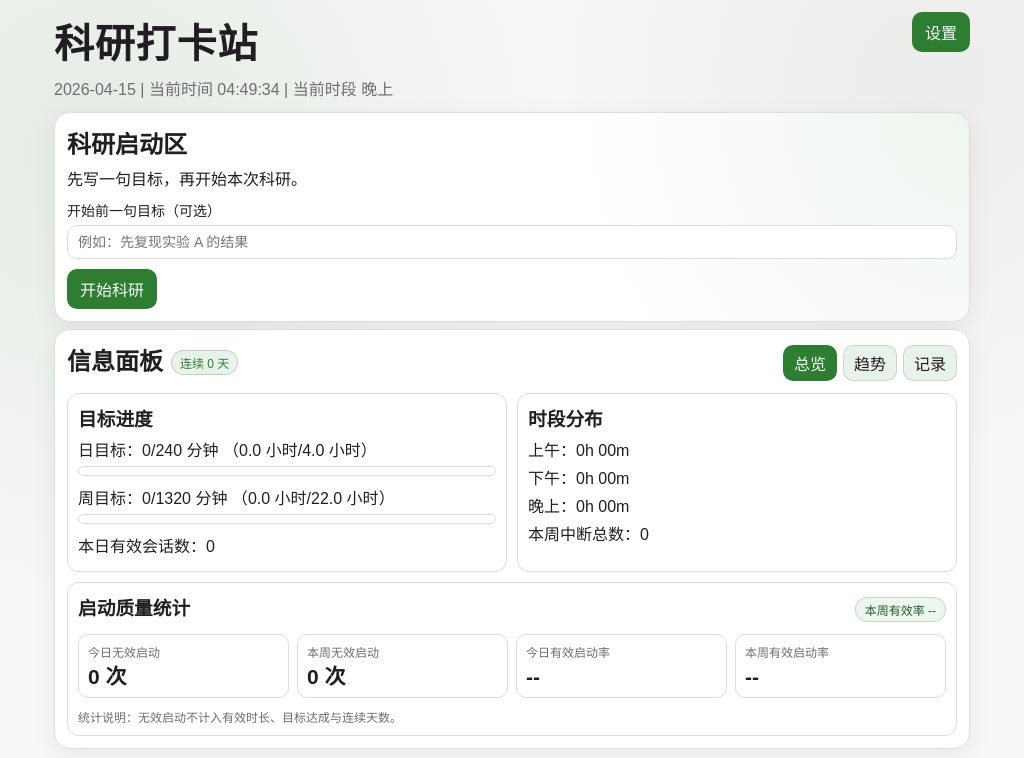
Scenario: App integration › shows current-session card after start, updates interrupt count, and hides after end
The image size is (1024, 758).
Expected: the heading "科研启动区" is shown, [67,131,187,158]
Expected: the text "开始时间" is not shown
Step 1. Type "实验推进" into the field with placeholder "例如：先复现实验 A 的结果" → (512, 242), box [67,225,957,259]
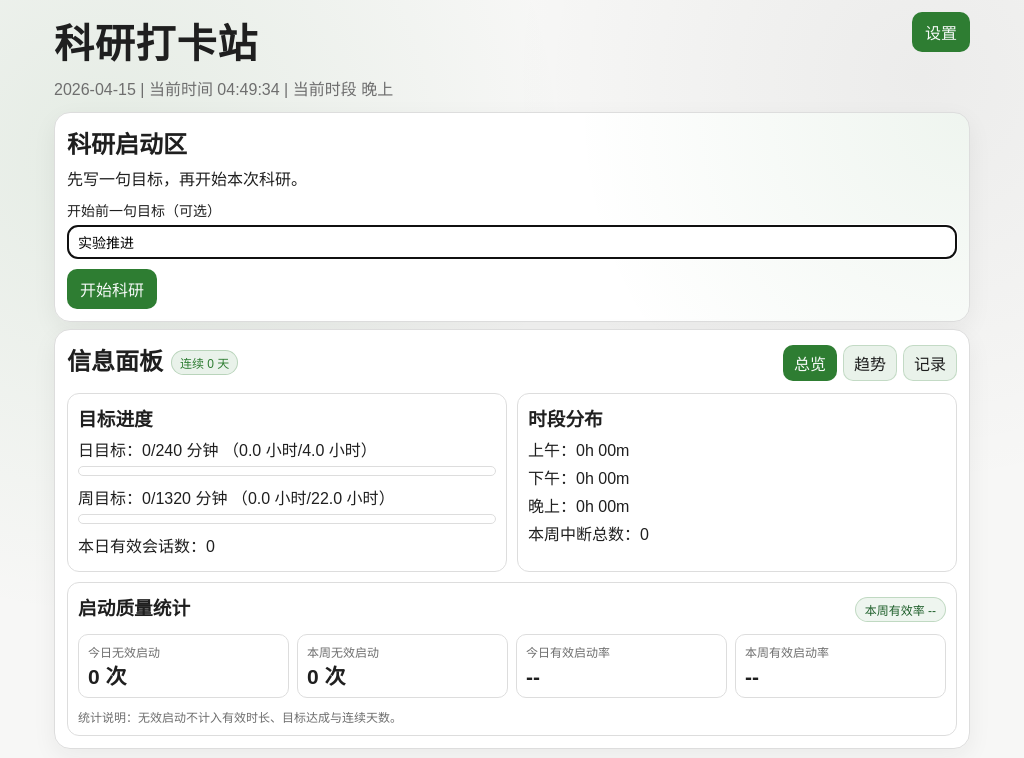
Step 2. Click the button "开始科研" → (112, 289), box [67,269,157,309]
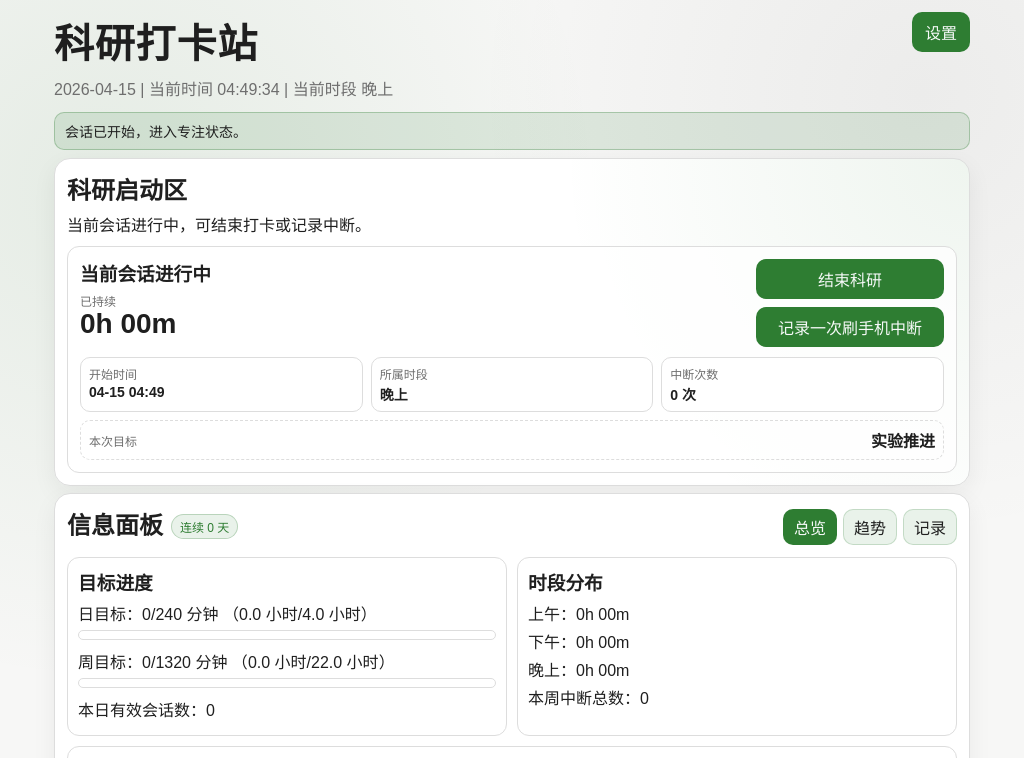
Result: the heading "当前会话进行中" is shown at [80,259,211,286]
Result: the text "开始时间" is shown at [89,368,137,382]
Result: the text "已持续" is shown at [80,295,116,309]
Step 3. Click the button "记录一次刷手机中断" → (850, 327), box [756,307,944,347]
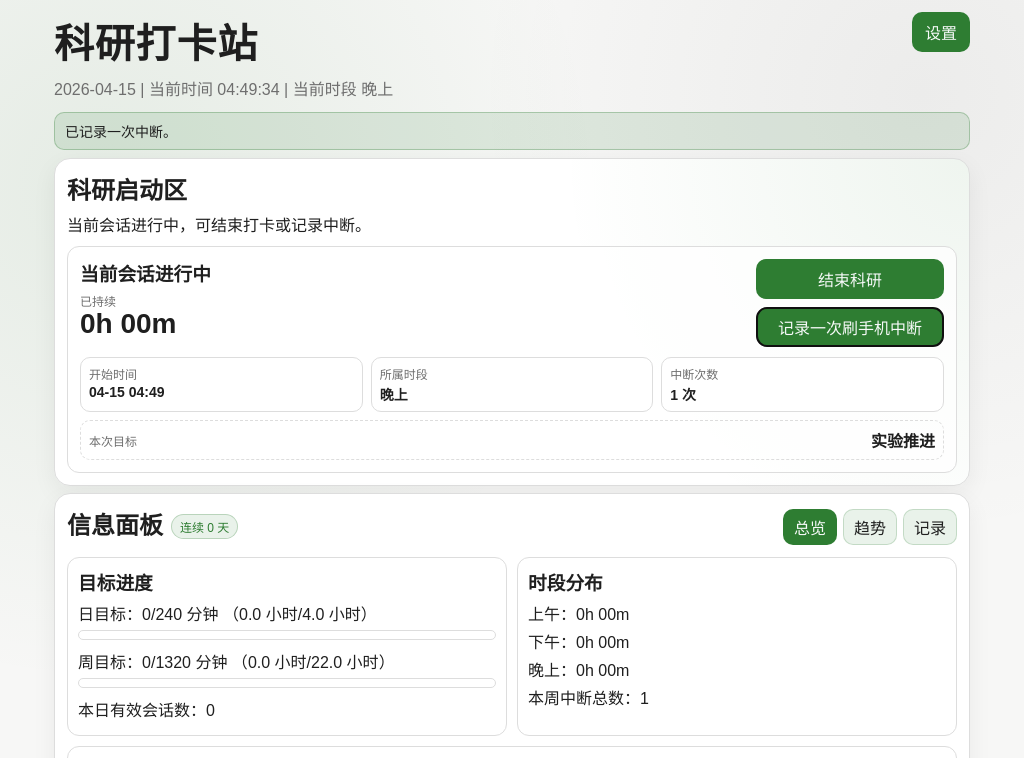
Result: the text "1 次" is shown at [670,387,696,403]
Step 4. Click the button "结束科研" → (850, 279), box [756,259,944,299]
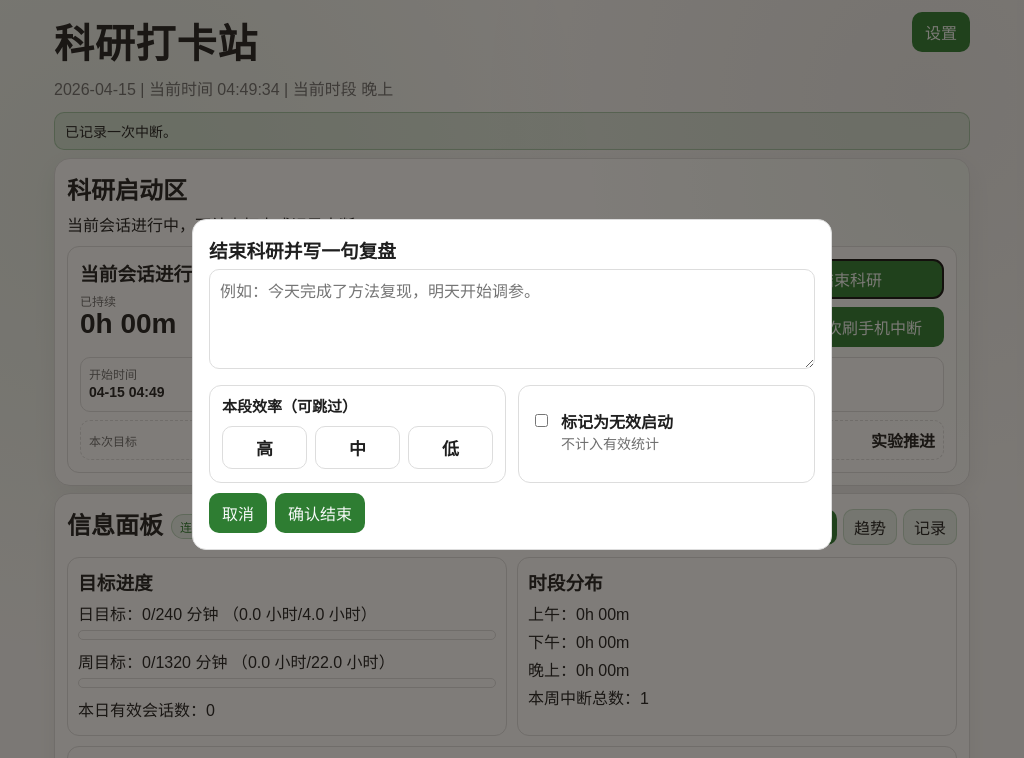
Result: the heading "结束科研并写一句复盘" is shown at [209,240,396,262]
Step 5. Click the button "确认结束" → (320, 512), box [275,492,365,532]
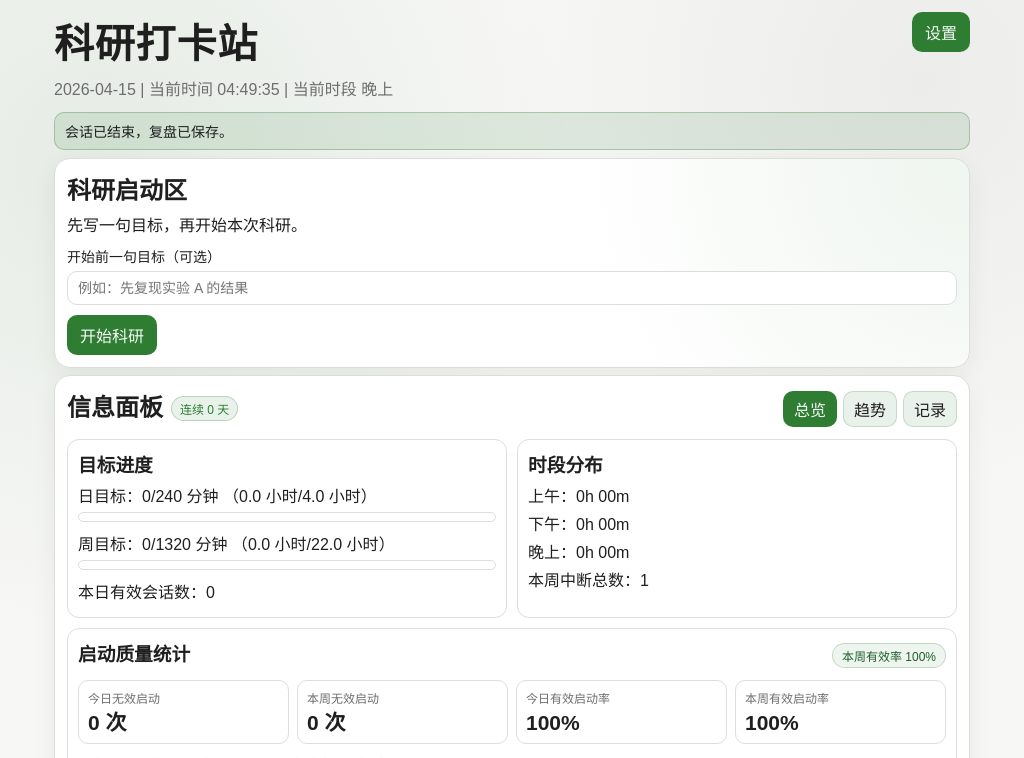
Result: the text "会话已结束，复盘已保存。" is shown at [54,112,970,150]
Result: the text "当前会话进行中" is gone
Result: the text "开始时间" is gone
